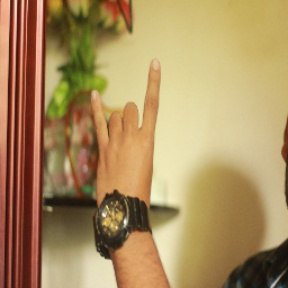V: (87, 55, 166, 216)
